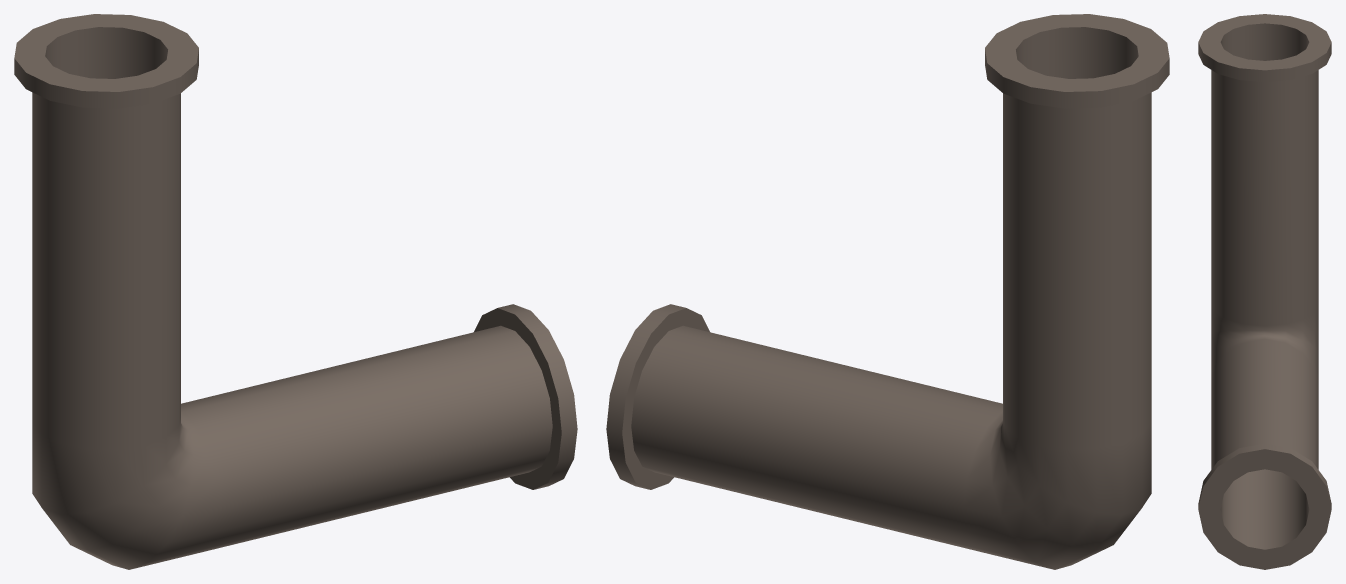
The model's file is pipe_corner_2.fbx.
3 views of the same model, side by side, from view 1: azimuth 30°, elevation 25°; view 2: azimuth 150°, elevation 25°; view 3: azimuth 270°, elevation 25° (orthographic). The views are drawn at different scales.
Visible parts, largest first — view 1: pipe_corner_2; view 2: pipe_corner_2; view 3: pipe_corner_2.
Boxes of the visible parts, box(x1,y1,x2,y2) form: pipe_corner_2: box(14, 14, 577, 569); pipe_corner_2: box(606, 14, 1169, 569); pipe_corner_2: box(1198, 14, 1331, 569).
Bounding box in the file's own units: 389 × 390 × 124.
